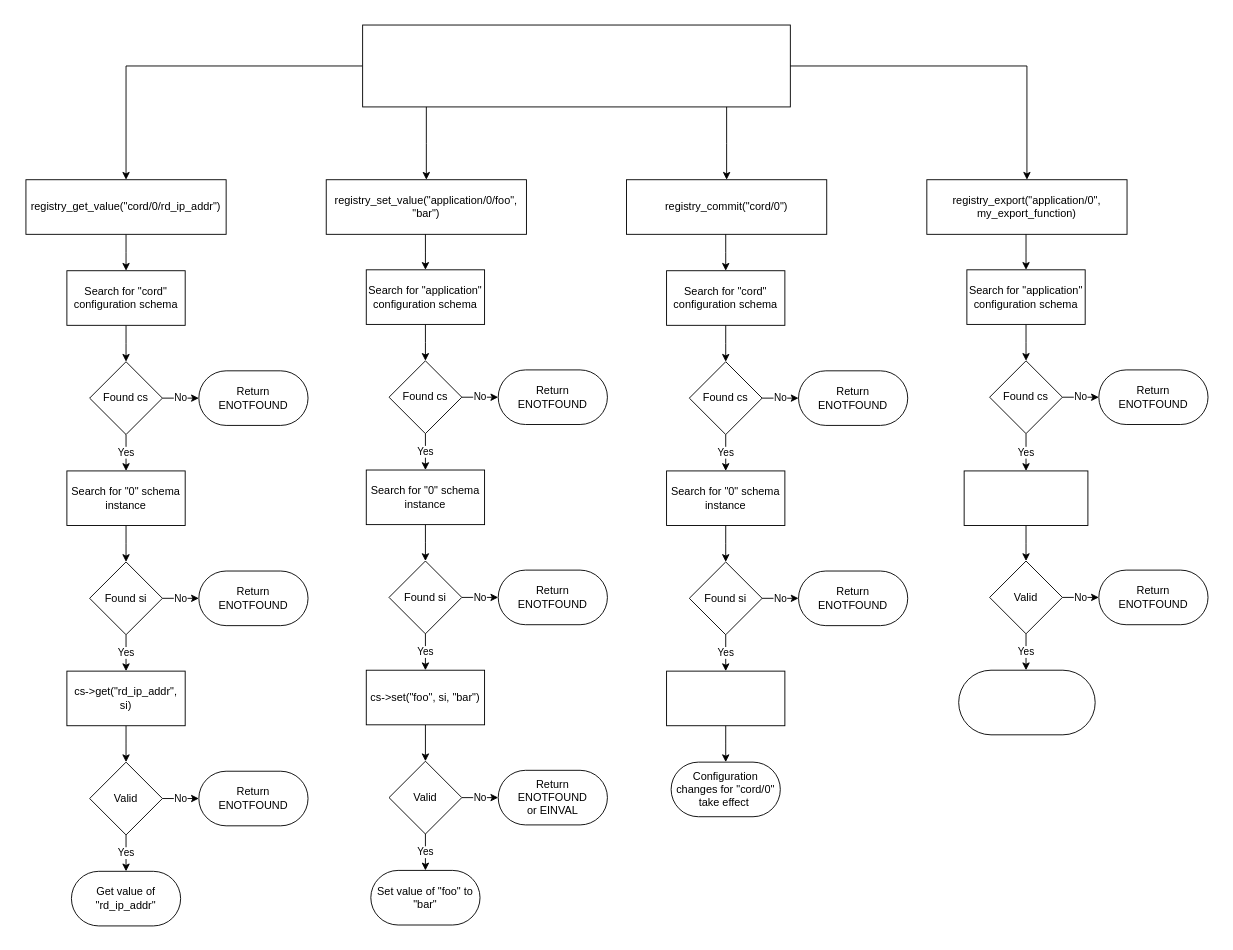
Image size: 1233x950. Some labels were removed from this diagram. The shapes that lost their labels are listed below. From the top down, each one's box as (x1, y1, x2, y2) in pixels, then its label:
(362, 24, 790, 107): main()
(963, 470, 1088, 526): Call registry_get_value() for each configuration in "application"
(666, 670, 785, 726): si->commit_cb("cord")
(958, 669, 1095, 735): Call my_export_function on each configuration in application
